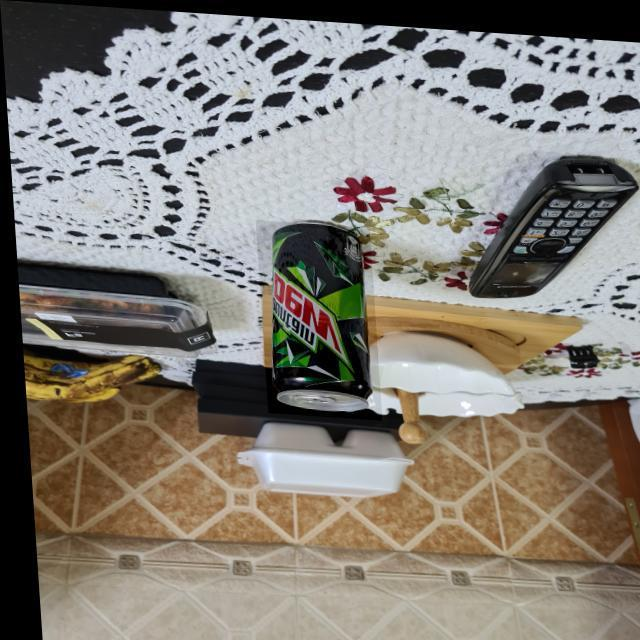trash: (266, 221, 374, 424)
